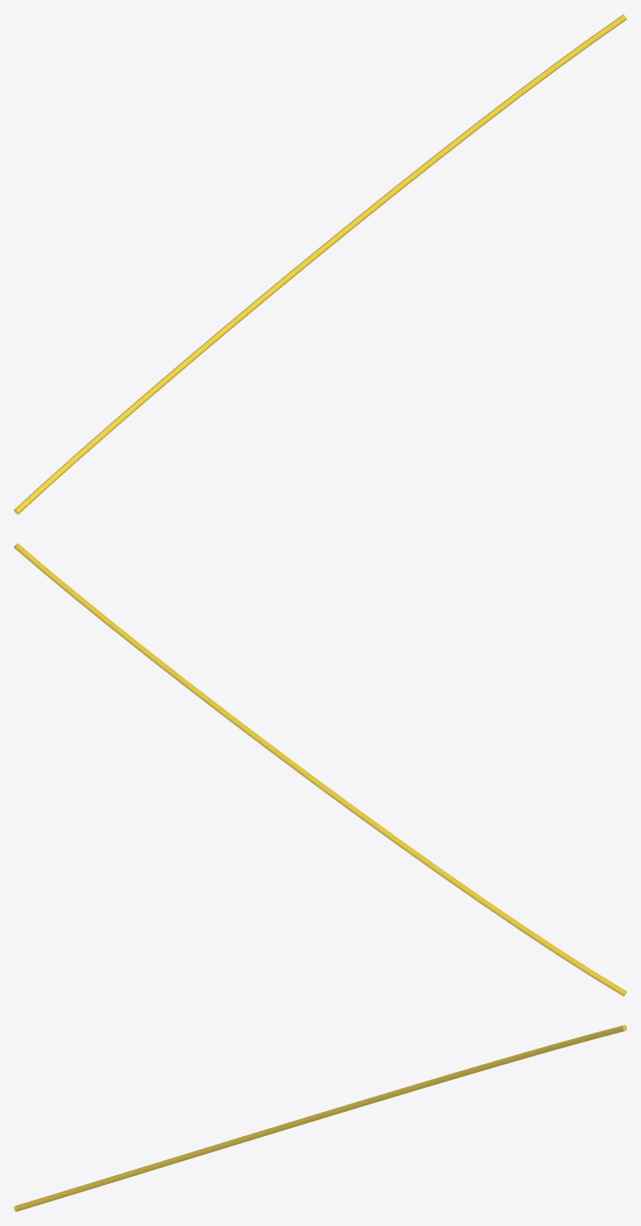
Rendered from Event_75125125_track_38.fbx.
3 views of the same model, one above another, from view 1: azimuth 30°, elevation 25°; view 2: azimuth 150°, elevation 25°; view 3: azimuth 330°, elevation 25° (orthographic). The views are drawn at different scales.
Parts seen in each view (by area): view 1: Model; view 2: Model; view 3: Model.
Boxes of the visible parts, bbox=[...] form: Model: bbox=[14, 14, 626, 514]; Model: bbox=[14, 543, 626, 996]; Model: bbox=[14, 1025, 626, 1211].
Bounding box in the file's own units: 4.46 × 2.28 × 0.2859.
